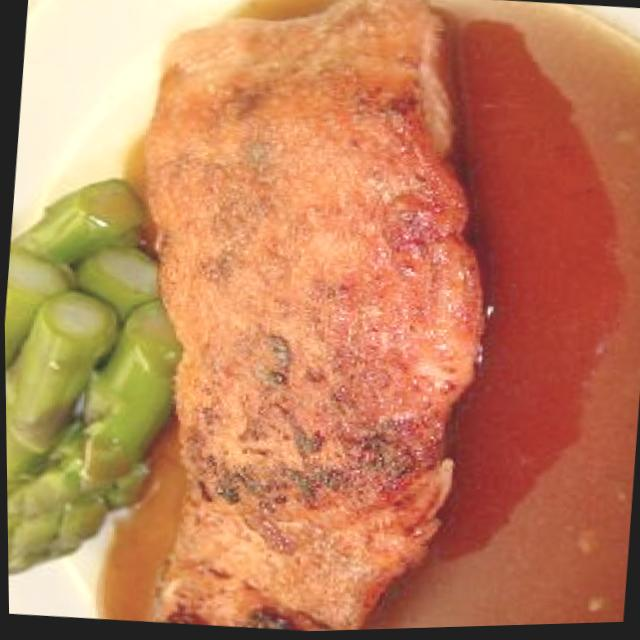熟制海鲜: (94, 0, 523, 638)
